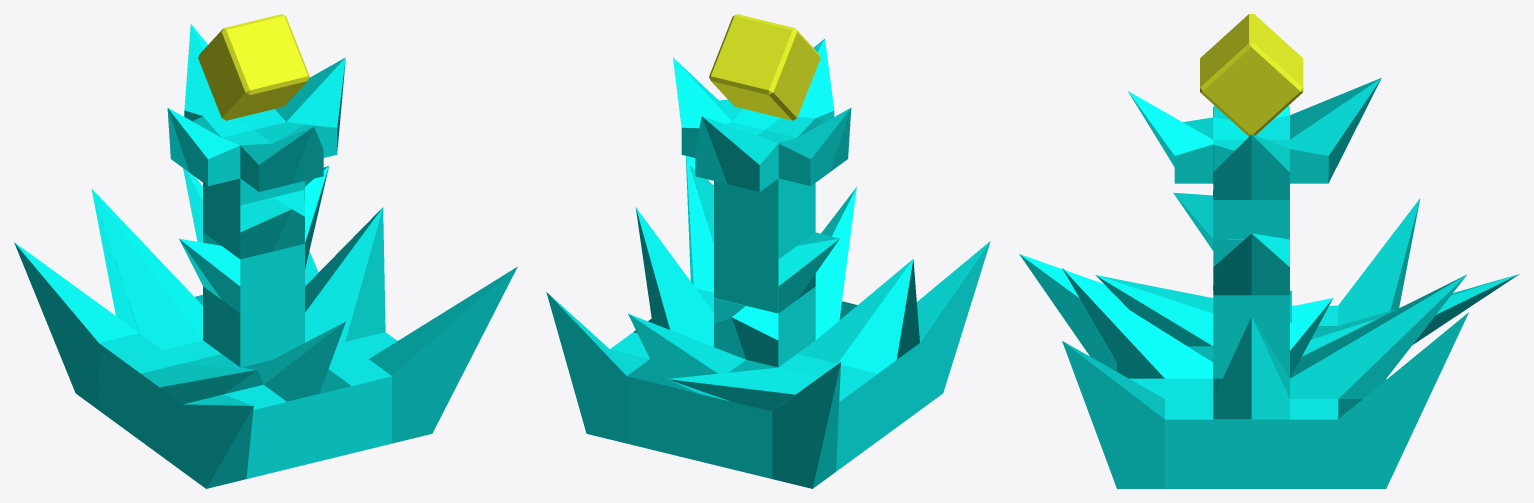
Rendered from Torre de Gelo com cor.fbx.
3 views of the same model, side by side, from view 1: azimuth 30°, elevation 25°; view 2: azimuth 150°, elevation 25°; view 3: azimuth 270°, elevation 25° (orthographic). The views are drawn at different scales.
Visible parts, largest first — view 1: tORRE, Cubo; view 2: tORRE, Cubo; view 3: tORRE, Cubo.
Part boxes in pixels (left/top/right/bottom): tORRE: left=14, top=24, right=517, bottom=488; Cubo: left=198, top=14, right=309, bottom=120; tORRE: left=546, top=38, right=990, bottom=488; Cubo: left=709, top=14, right=820, bottom=120; tORRE: left=1019, top=78, right=1519, bottom=488; Cubo: left=1200, top=14, right=1303, bottom=136.
Bounding box in the file's own units: 2042 × 2315 × 2604.
2 materials, 2 textured.
